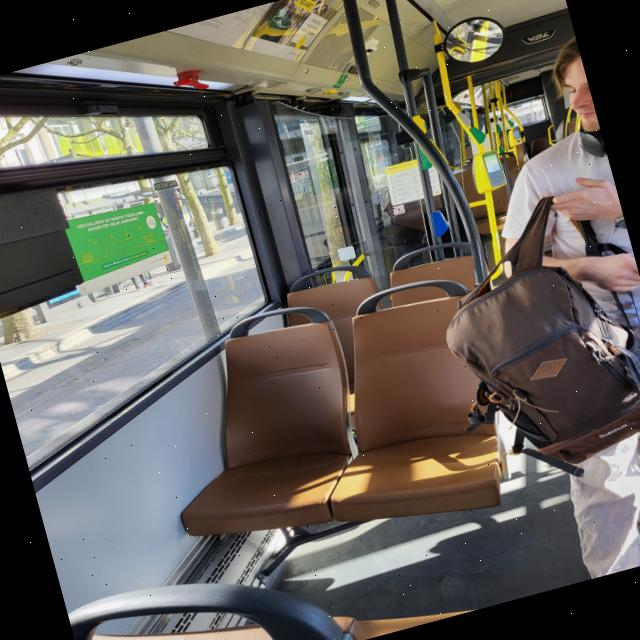empty-seat-frontal: (278, 264, 544, 547), (131, 288, 403, 564)
